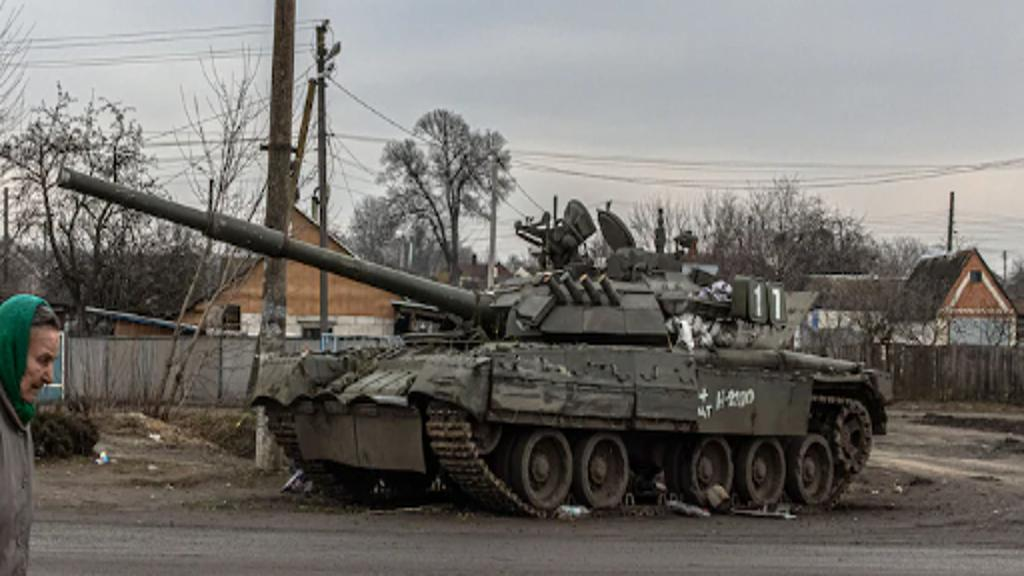TANK: (57, 159, 892, 522)
